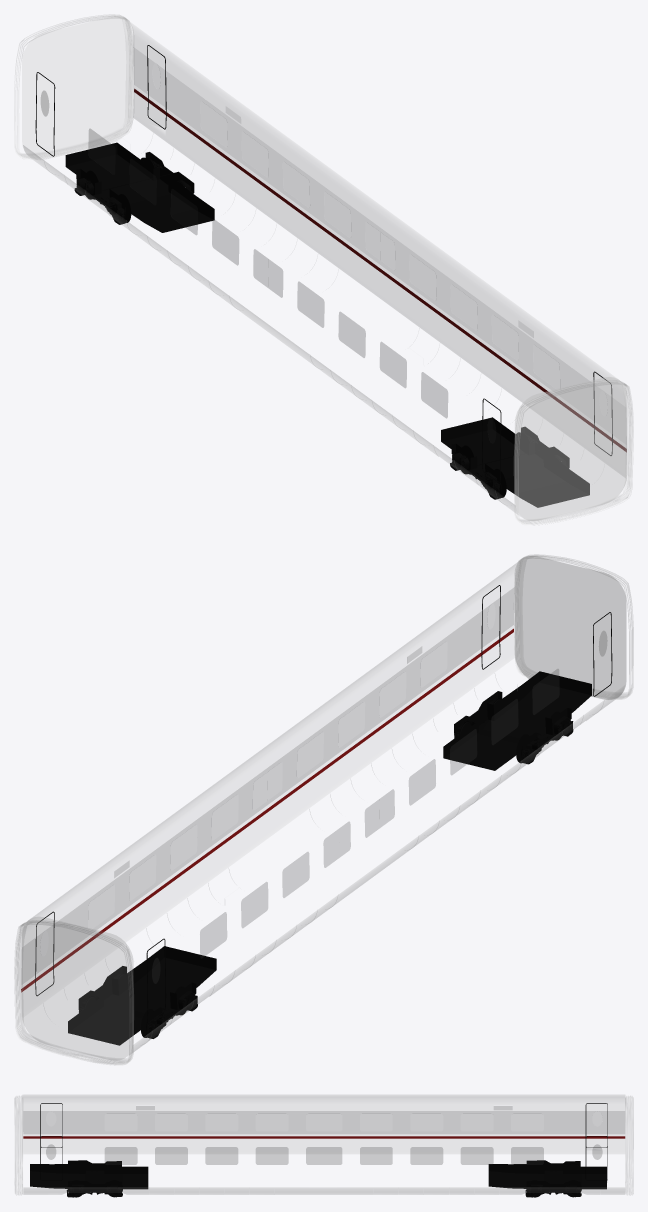
File: tuo.glb
3 renders of one model, top to bottom at view 1: azimuth 30°, elevation 25°; view 2: azimuth 150°, elevation 25°; view 3: azimuth 270°, elevation 25°, orthographic. The views are drawn at different scales.
Parts seen in each view (by area): view 1: TL0006; view 2: TL0006; view 3: TL0006.
Boxes of the visible parts, <box> form: TL0006: <box>14,14,633,525</box>; TL0006: <box>14,554,633,1065</box>; TL0006: <box>14,1094,633,1197</box>.
Size of the model in its own units: 3.53 by 3.99 by 26.8.
